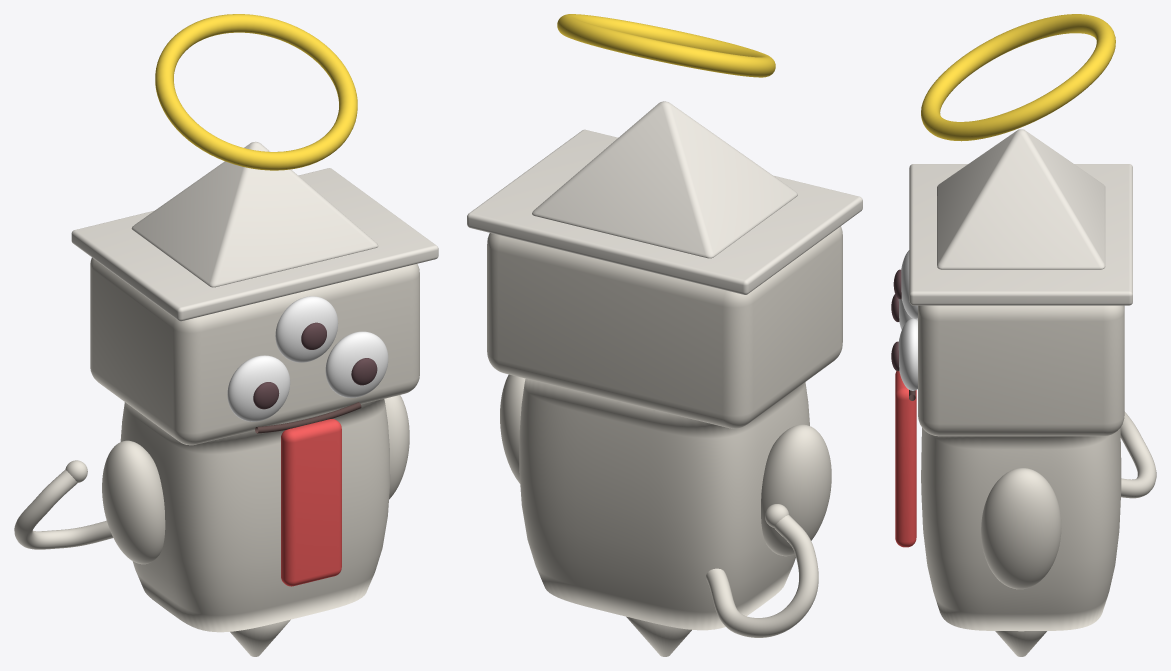
Rendered from totok_v4.glb.
The picture shows the model from 3 angles, left to right: view 1: azimuth 30°, elevation 25°; view 2: azimuth 150°, elevation 25°; view 3: azimuth 270°, elevation 25°; orthographic projection. The views are drawn at different scales.
Visible parts, largest first — view 1: BODY, HEAD, ROOF, ROOF_SLAB, HALO, TONGUE, ARM.L, TAIL, EYE.LEFT, EYE.RIGHT, EYE.TOP, ARM.R (+2 smaller); view 2: BODY, HEAD, ROOF, ROOF_SLAB, HALO, ARM.L, TAIL, ARM.R, BOTTOM_TIP; view 3: BODY, HEAD, ROOF, ROOF_SLAB, HALO, ARM.R, TONGUE, TAIL, EYE.RIGHT, BOTTOM_TIP, EYE.TOP.
Part boxes in pixels (x1,y1,x2,y2): BODY: (120,399,390,632); HEAD: (90,257,419,445); ROOF: (131,141,378,287); ROOF_SLAB: (71,168,438,321); HALO: (155,14,357,170); TONGUE: (281,419,341,586); ARM.L: (102,440,165,564); TAIL: (14,469,113,549); EYE.LEFT: (227,355,290,421); EYE.RIGHT: (325,331,388,397); EYE.TOP: (275,296,338,362); ARM.R: (384,395,409,499); BODY: (519,378,809,630); HEAD: (487,226,842,428); ROOF: (532,101,797,258); ROOF_SLAB: (467,129,862,294); HALO: (557,14,775,77); ARM.L: (761,424,831,556); TAIL: (706,515,818,637); ARM.R: (500,374,525,483); BOTTOM_TIP: (626,616,691,656); BODY: (921,428,1121,631); HEAD: (918,305,1124,436); ROOF: (937,129,1105,269); ROOF_SLAB: (909,164,1132,305); HALO: (921,14,1115,141); ARM.R: (981,468,1061,589); TONGUE: (895,371,916,547); TAIL: (1120,411,1156,498); EYE.RIGHT: (898,318,917,390); BOTTOM_TIP: (995,631,1046,656); EYE.TOP: (901,250,917,318).
Size of the model in its own units: 2.81 by 4.84 by 1.87.
